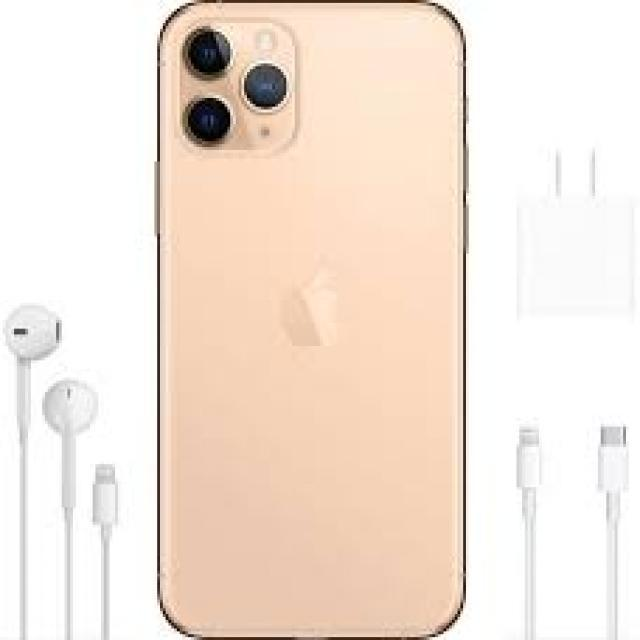phone: (148, 0, 476, 640)
